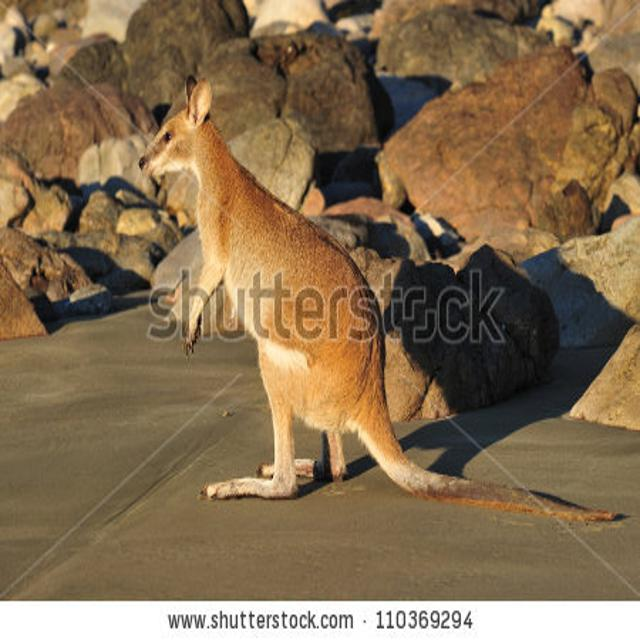kangaroo: (132, 76, 394, 495)
